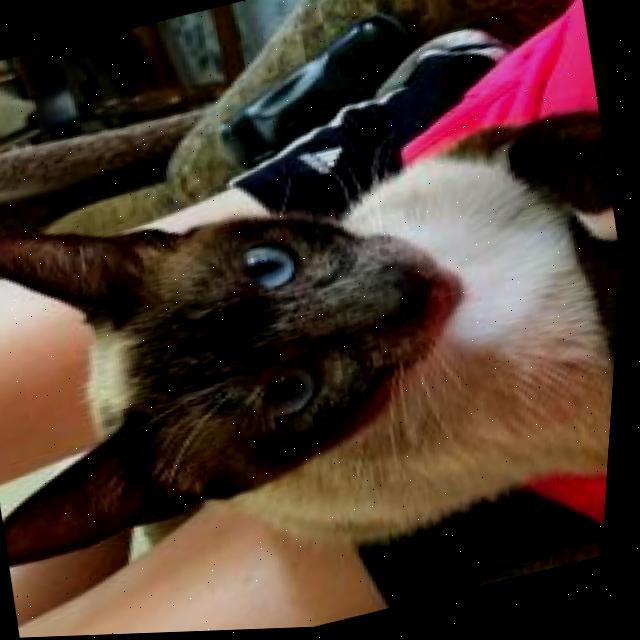Siamese: (0, 86, 634, 637)
